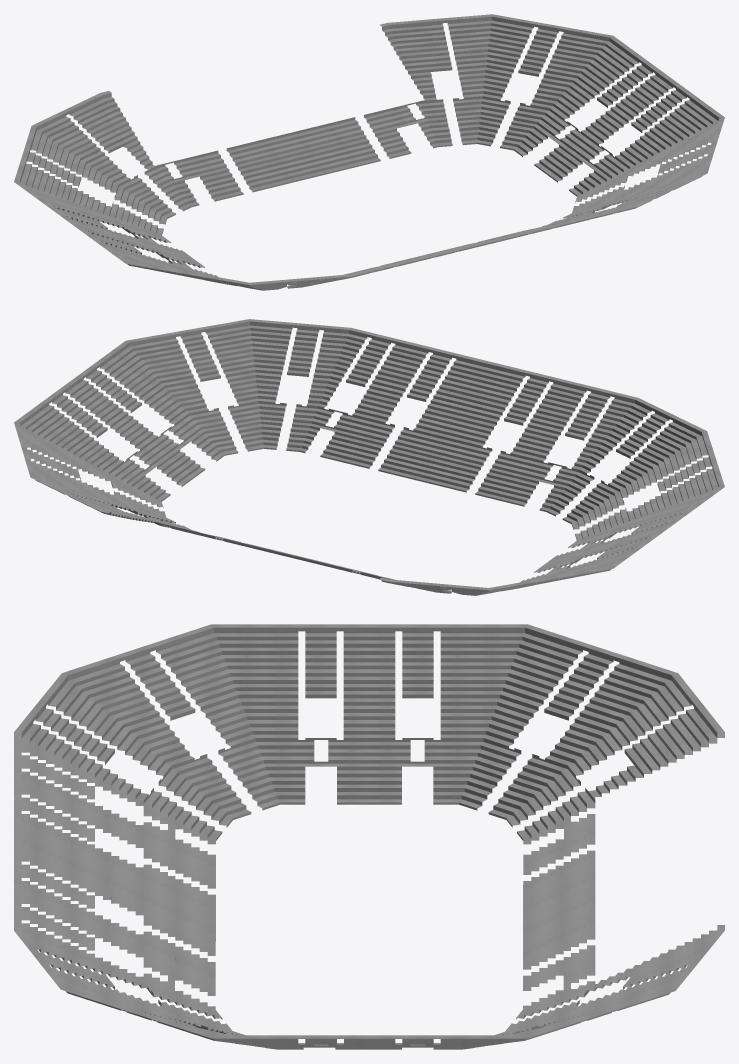
File: Tribune_01.FBX
3 renders of one model, top to bottom at view 1: azimuth 30°, elevation 25°; view 2: azimuth 150°, elevation 25°; view 3: azimuth 270°, elevation 25°, orthographic. The views are drawn at different scales.
Visible parts, largest first — view 1: Tribune; view 2: Tribune; view 3: Tribune.
Part boxes in pixels (<box>): Tribune: <box>14,14,724,290</box>; Tribune: <box>14,319,724,595</box>; Tribune: <box>14,624,724,1049</box>.
Size of the model in its own units: 112 by 11.99 by 81.24.
